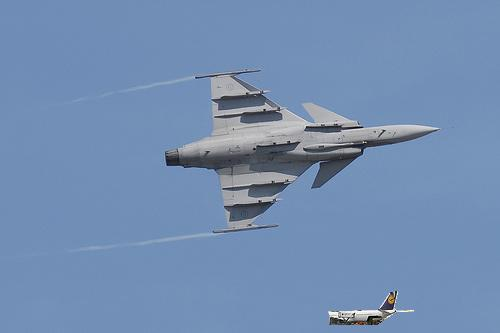tampered: (329, 292, 414, 325)
